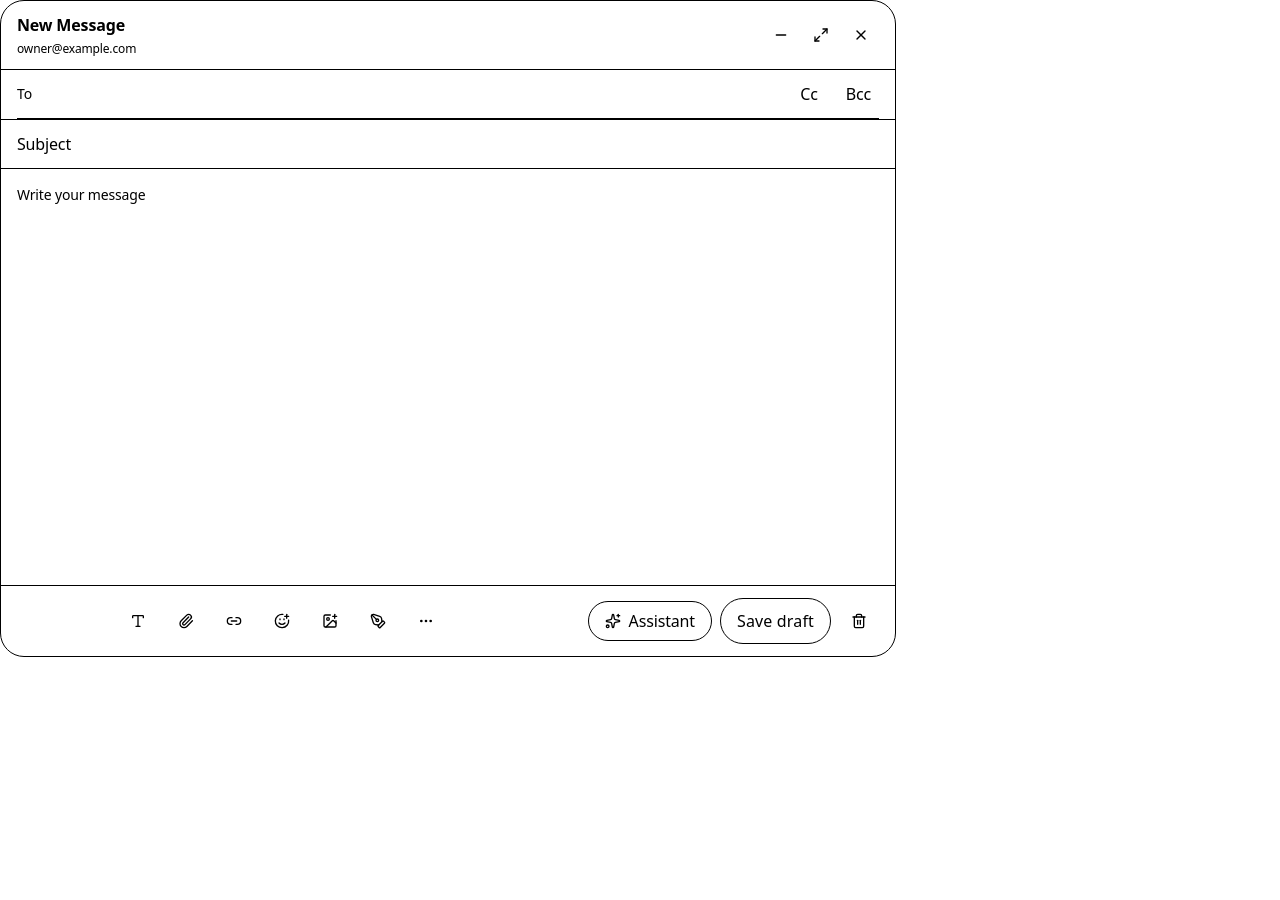
Test: ComposeForm › inserts an emoji into the rich body editor
Click the button named "Insert emoji". click: (282, 621)
box: [262,601,302,641]
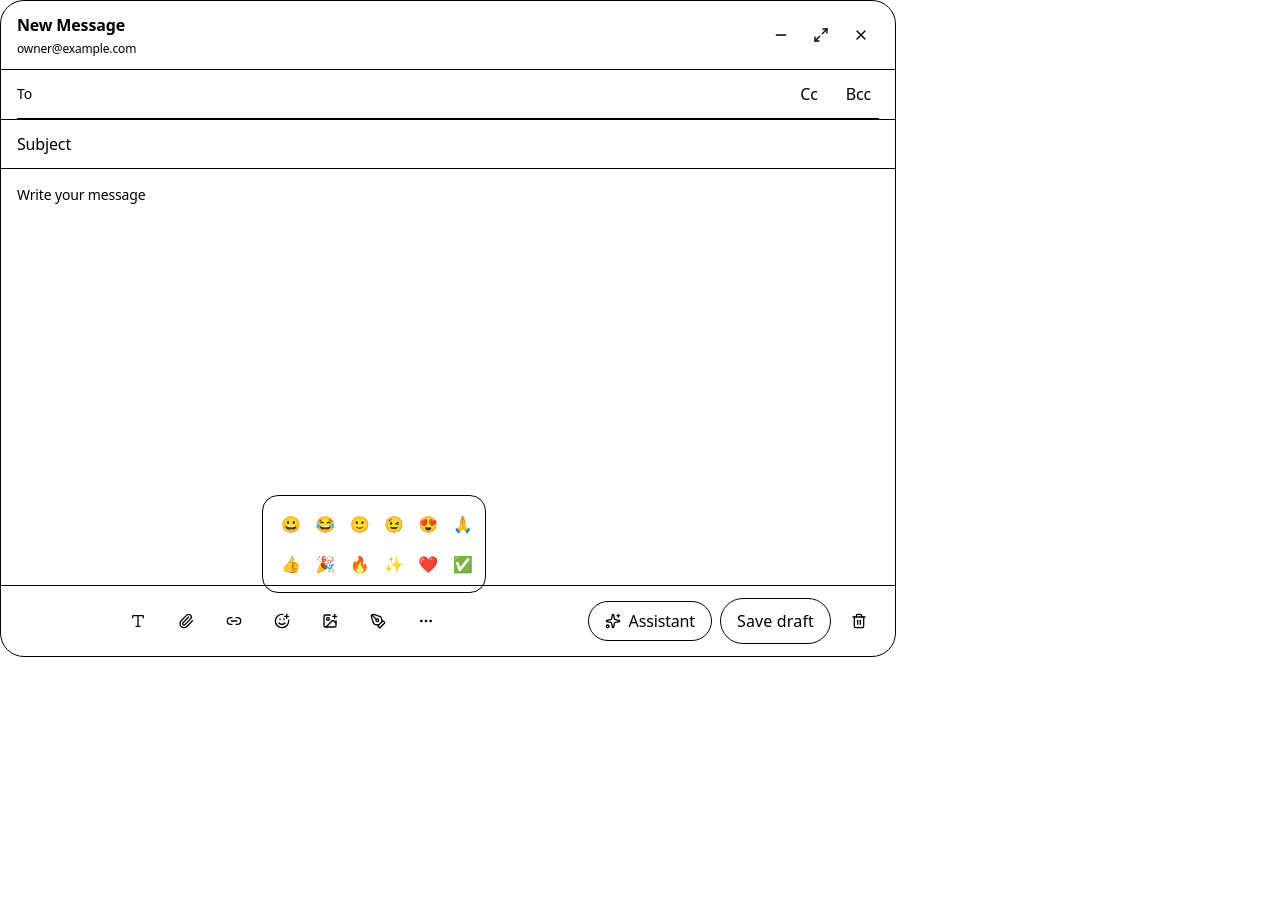
Click the button "✨". click: (394, 564)
box: [378,548,410,580]
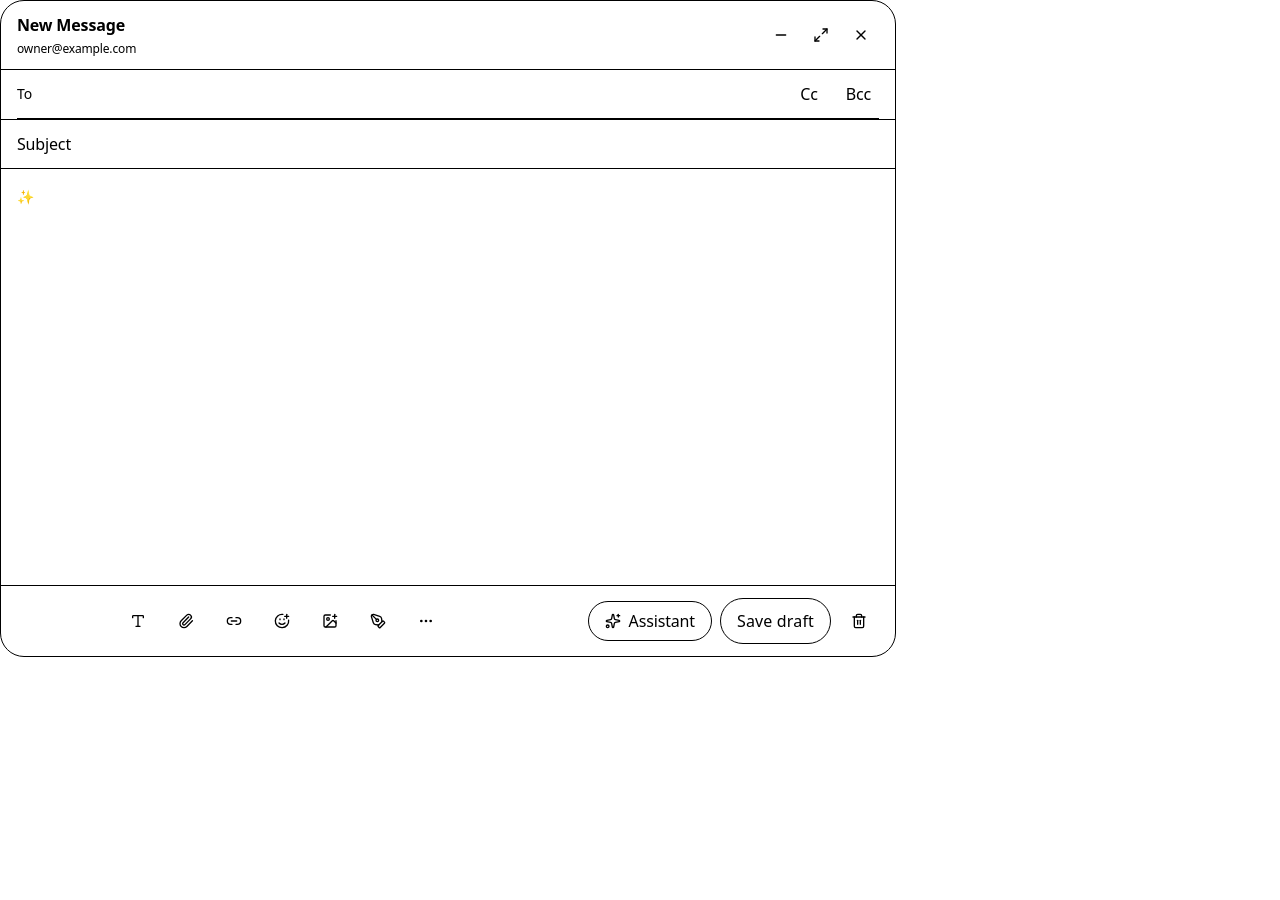
Expected: the field named "Body" reads "✨", [17,185,879,569]
